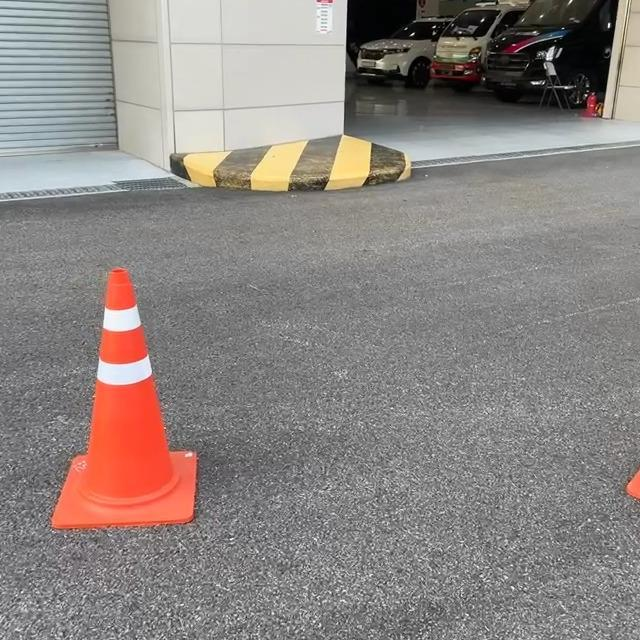fallen_object: (52, 242, 244, 571)
